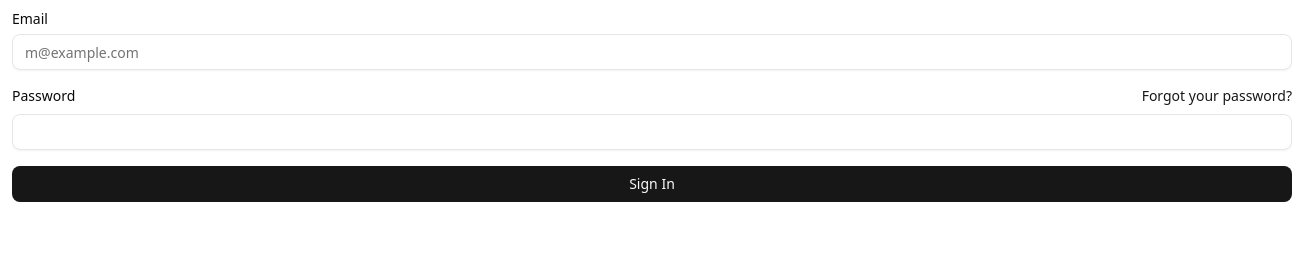
Test case: LoginForm › shows error messages for empty fields
Click the button "Sign In" at (652, 184), box top-left (12, 166), bottom-right (1292, 202)
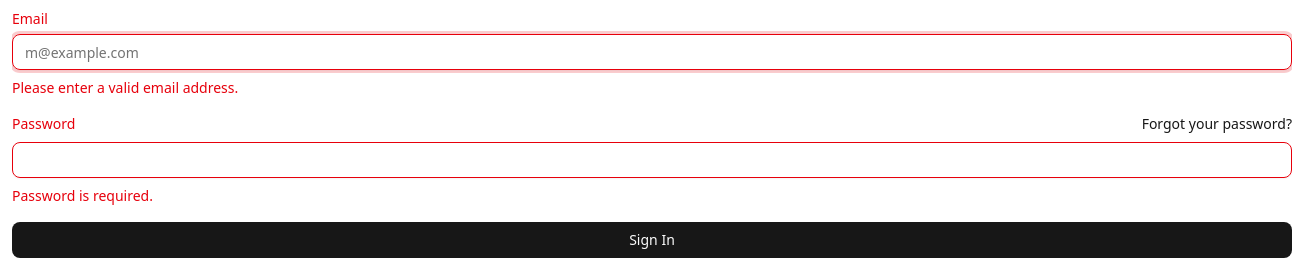
Result: the text "Please enter a valid email address." is shown at top-left (12, 78), bottom-right (238, 97)
Result: the text "Password is required." is shown at top-left (12, 186), bottom-right (153, 205)
